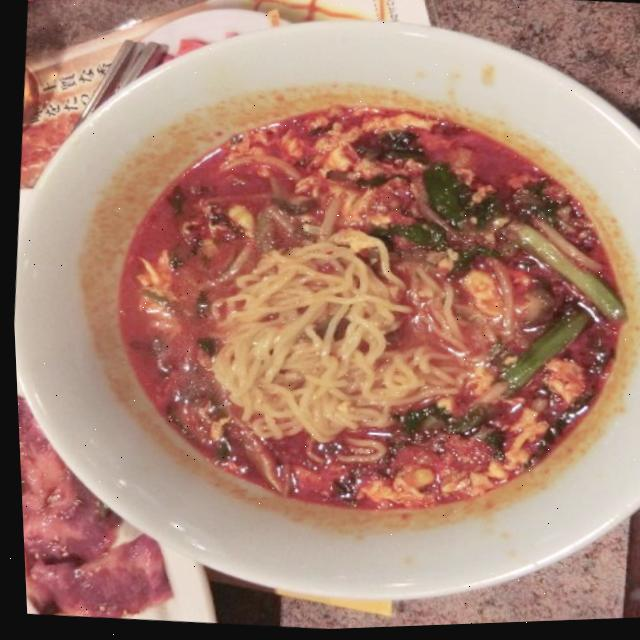面条主食: (0, 0, 640, 620)
